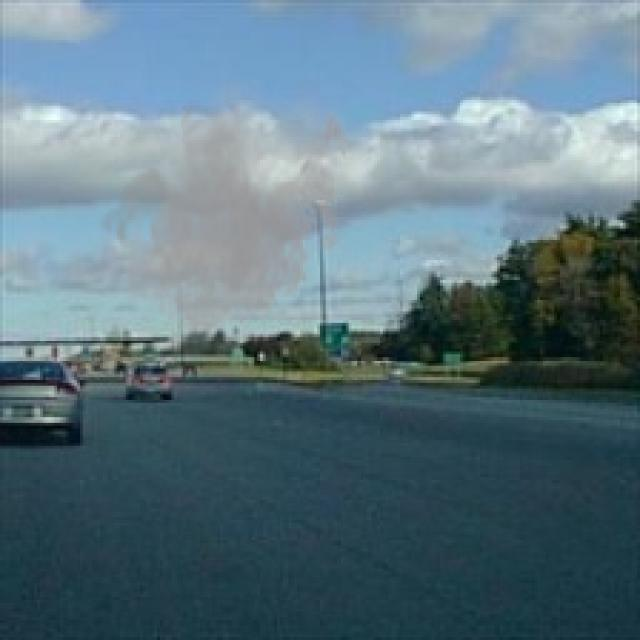Smoke: (97, 71, 354, 352)
